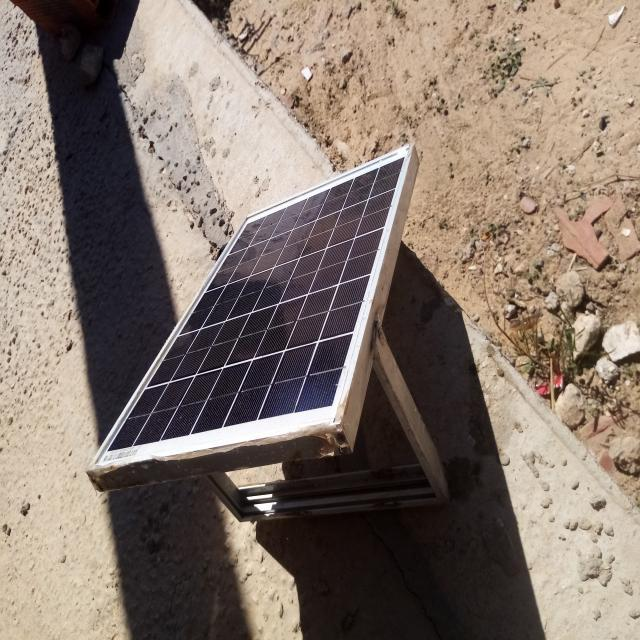no faulty: (93, 144, 414, 464)
